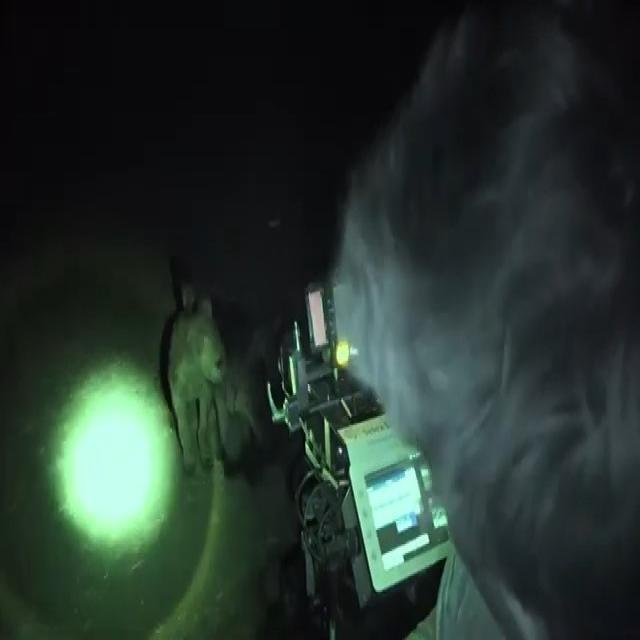animal: (136, 257, 254, 498)
device: (282, 2, 639, 640)
unknown: (52, 327, 166, 556)
